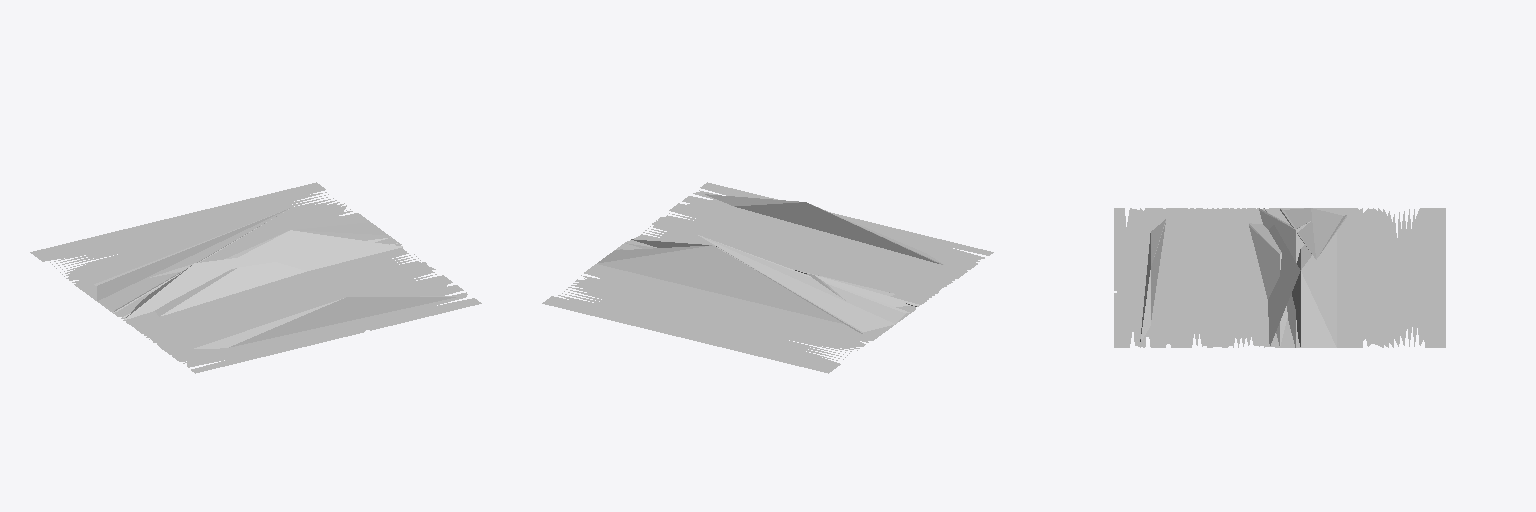
3 renders of one model, left to right at view 1: azimuth 30°, elevation 25°; view 2: azimuth 150°, elevation 25°; view 3: azimuth 270°, elevation 25°, orthographic.
Visible parts, largest first — view 1: Height_Map; view 2: Height_Map; view 3: Height_Map.
Boxes of the visible parts, x1,y1,x2,y2 form: Height_Map: [30, 182, 481, 373]; Height_Map: [542, 182, 993, 373]; Height_Map: [1114, 208, 1445, 347].
Size of the model in its own units: 1024 by 150 by 1024.